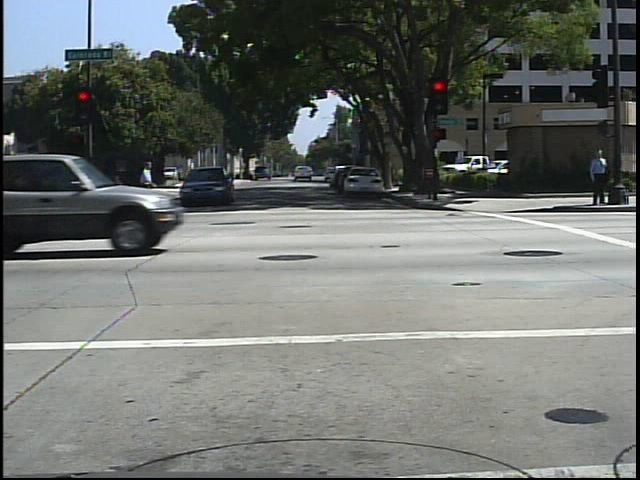person: (131, 154, 162, 207), (587, 143, 609, 209)
